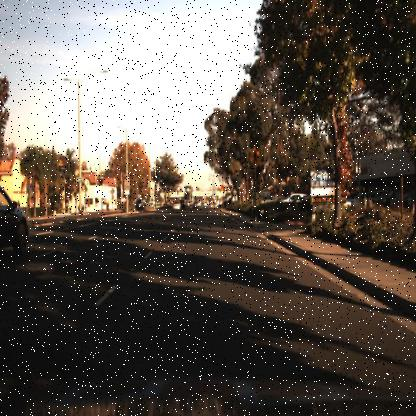car: (0, 177, 31, 270), (280, 186, 313, 204), (130, 192, 147, 216), (168, 198, 182, 214)
